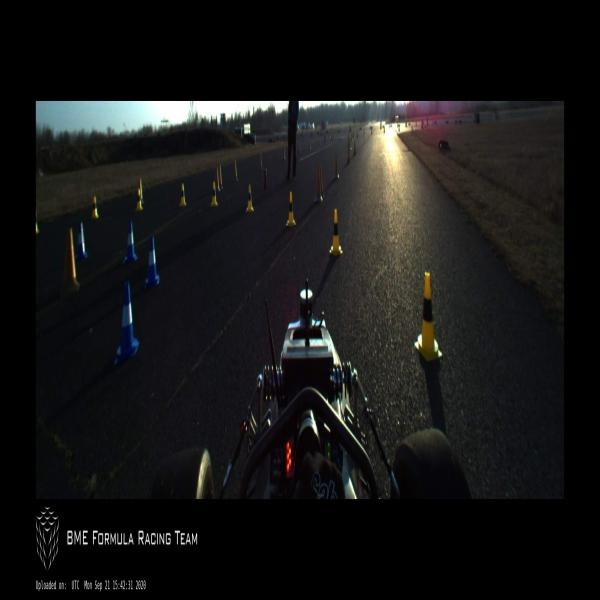blue_cone: (114, 283, 140, 361), (145, 235, 159, 286), (123, 222, 137, 265), (76, 224, 88, 260)
yellow_cone: (415, 273, 442, 364), (329, 209, 343, 258), (287, 192, 296, 226), (246, 183, 254, 212), (210, 180, 218, 206), (91, 195, 98, 220), (179, 183, 186, 206), (135, 188, 142, 210)
